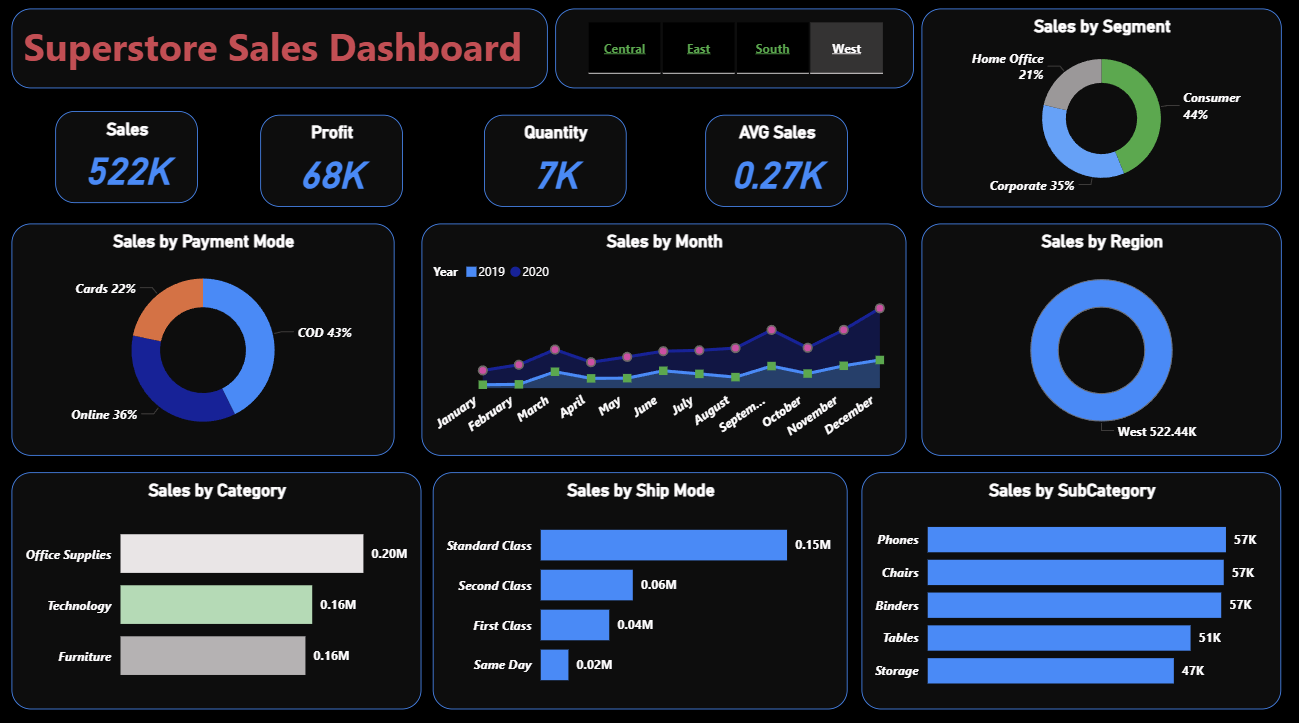

This screenshot's page, from the dashboard's own definition file:
{"tool":"powerbi","page":{"name":"Page 1","canvas":[1280,720],"ordinal":0},"visuals":[{"type":"clusteredBarChart","title":"Sales by Category","fields":{"Category":["Sheet1.Category"],"Y":["Sum(Sheet1.Sales)"]},"box":[12.3,467.5,402.5,233.1],"z":0},{"type":"clusteredBarChart","title":"Sales by SubCategory","fields":{"Category":["Sheet1.Sub-Category"],"Y":["Sum(Sheet1.Sales)"]},"box":[846.6,467.5,412.3,233.1],"z":1000},{"type":"clusteredBarChart","title":"Sales by Ship Mode","fields":{"Category":["Sheet1.Ship Mode"],"Y":["Sum(Sheet1.Sales)"]},"box":[425.8,467.5,407.4,233.1],"z":2000},{"type":"slicer","title":"based on states","fields":{"Values":["Sheet1.Region"]},"box":[546,12.3,352.1,78.5],"z":3000},{"type":"donutChart","title":"Sales by Payment Mode","fields":{"Category":["Sheet1.Payment Mode"],"Y":["Sum(Sheet1.Sales)"]},"box":[12.3,223.7,376,227.8],"z":4000},{"type":"donutChart","title":"Sales by Segment","fields":{"Category":["Sheet1.Segment"],"Y":["Sum(Sheet1.Sales)"]},"box":[905.5,12.3,353.4,195.1],"z":5000},{"type":"textbox","box":[12.3,12.3,526.4,78.5],"z":6000},{"type":"stackedAreaChart","title":"Sales by Month","fields":{"Category":["Sheet1.Order Date.Variation.Date Hierarchy.Month"],"Series":["Sheet1.Order Date.Variation.Date Hierarchy.Year"],"Y":["Sum(Sheet1.Sales)"]},"box":[414.7,223.3,476.1,228.2],"z":7000},{"type":"card","title":"Sales","fields":{"Values":["Sum(Sheet1.Sales)"]},"box":[54.9,112.5,140,90.6],"z":8000},{"type":"card","title":"Profit","fields":{"Values":["Sum(Sheet1.Profit)"]},"box":[256.6,116.6,140,90.6],"z":9000},{"type":"card","title":"Quantity","fields":{"Values":["Sum(Sheet1.Quantity)"]},"box":[476.2,116.6,140,90.6],"z":10000},{"type":"card","title":"AVG Sales","fields":{"Values":["Avg(Sheet1.Sales)"]},"box":[693,116.6,140,90.6],"z":11000},{"type":"donutChart","title":"Sales by Region","fields":{"Category":["Sheet1.Region"],"Y":["Sum(Sheet1.Sales)"]},"box":[905.5,223.3,353.4,228.2],"z":12000}]}

Visuals, with their boxes in screenshot pixels (x1, y1, x2, y2), scaled from the page's 1280x720 canvas onto the 1299x723 screenshot:
"Sales by Category" clusteredBarChart: (12, 469, 421, 704)
"Sales by SubCategory" clusteredBarChart: (859, 469, 1278, 704)
"Sales by Ship Mode" clusteredBarChart: (432, 469, 846, 704)
"based on states" slicer: (554, 12, 911, 91)
"Sales by Payment Mode" donutChart: (12, 225, 394, 453)
"Sales by Segment" donutChart: (919, 12, 1278, 208)
textbox: (12, 12, 547, 91)
"Sales by Month" stackedAreaChart: (421, 224, 904, 453)
"Sales" card: (56, 113, 198, 204)
"Profit" card: (260, 117, 402, 208)
"Quantity" card: (483, 117, 625, 208)
"AVG Sales" card: (703, 117, 845, 208)
"Sales by Region" donutChart: (919, 224, 1278, 453)
